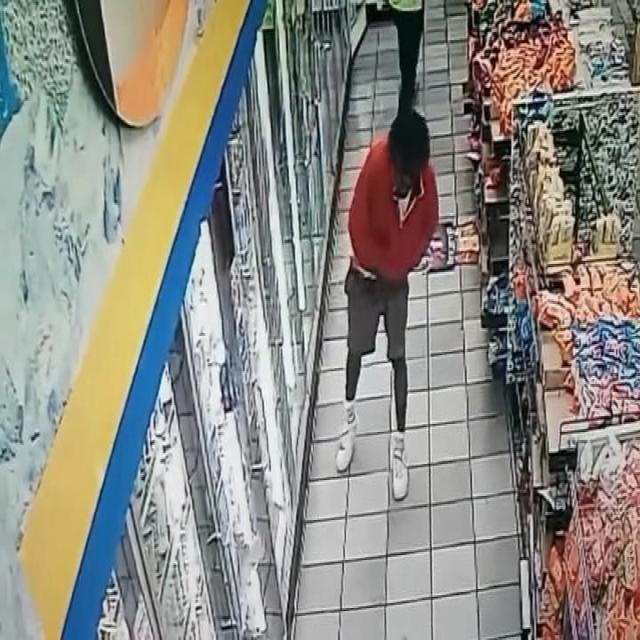Shoplifting: (286, 58, 454, 572)
